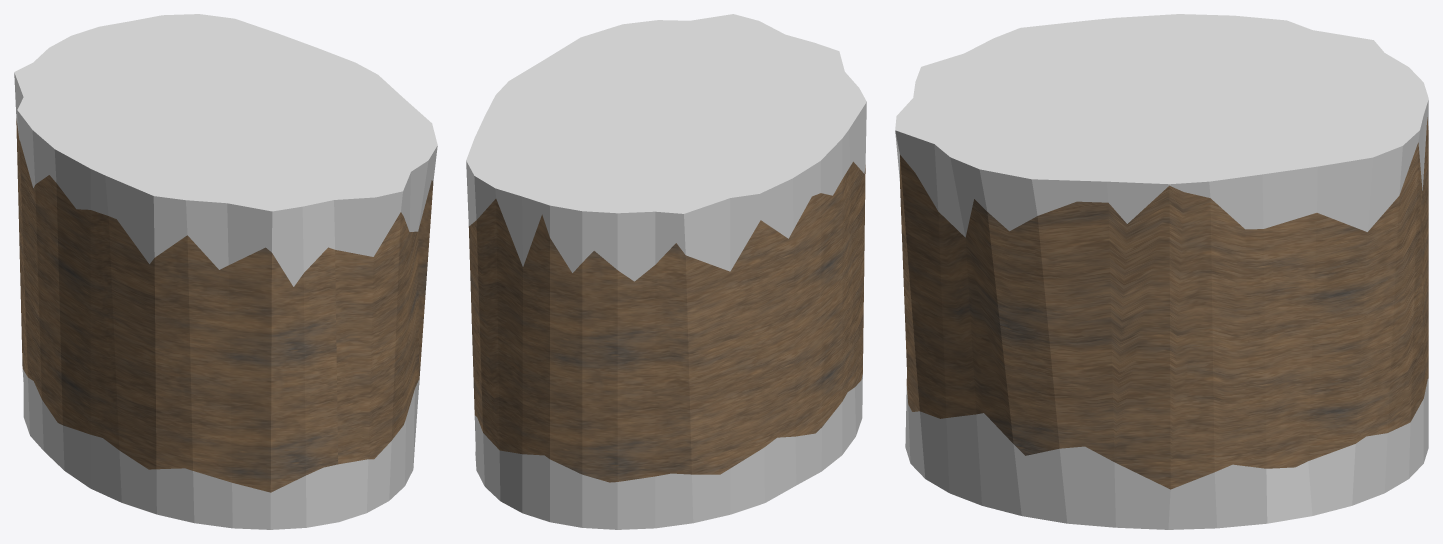
File: GrassRoundedTall.fbx
3 renders of one model, left to right at view 1: azimuth 30°, elevation 25°; view 2: azimuth 150°, elevation 25°; view 3: azimuth 270°, elevation 25°, orthographic. The views are drawn at different scales.
Parts seen in each view (by area): view 1: GrassRoundedTall; view 2: GrassRoundedTall; view 3: GrassRoundedTall.
Boxes of the visible parts, x1,y1,x2,y2 form: GrassRoundedTall: (14,14,437,529); GrassRoundedTall: (466,14,866,529); GrassRoundedTall: (895,14,1428,529).
Size of the model in its own units: 1417 by 1358 by 1881.
